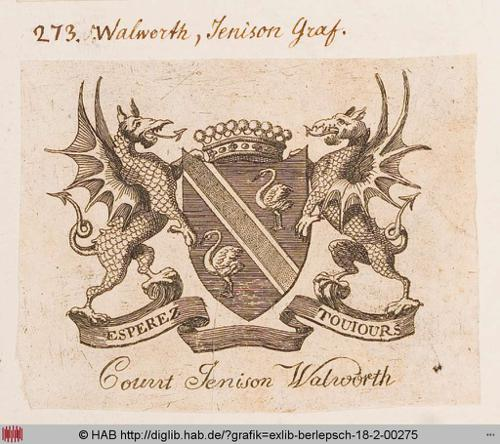crown: (193, 116, 293, 164)
dragon: (40, 75, 201, 320), (292, 69, 430, 324)
scroll: (64, 303, 419, 352)
